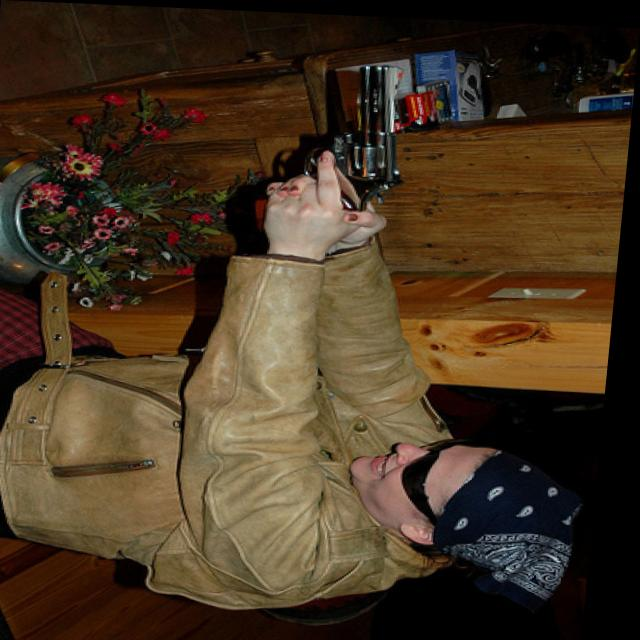handgun: (255, 62, 407, 232)
